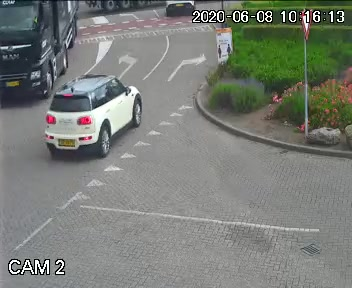car: (44, 67, 149, 169), (1, 0, 89, 106)
